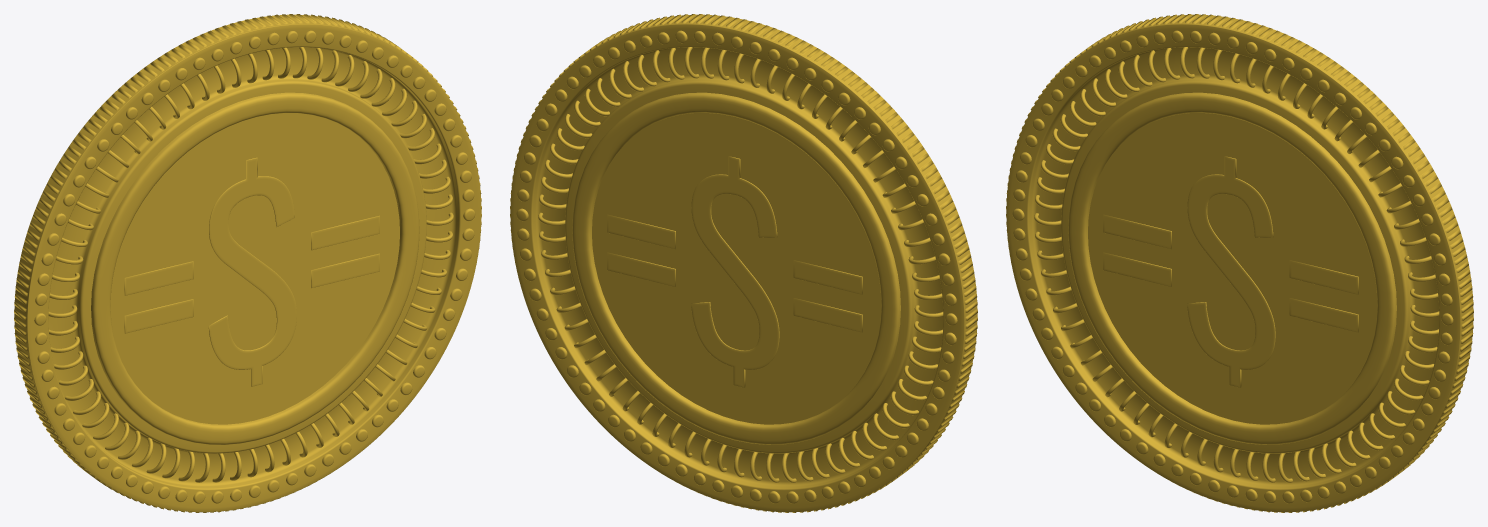
3 renders of one model, left to right at view 1: azimuth 30°, elevation 25°; view 2: azimuth 150°, elevation 25°; view 3: azimuth 330°, elevation 25°, orthographic.
Parts seen in each view (by area): view 1: Coin_0; view 2: Coin_0; view 3: Coin_0.
Boxes of the visible parts, <box> form: Coin_0: <box>14,14,481,512</box>; Coin_0: <box>510,14,977,512</box>; Coin_0: <box>1006,14,1473,512</box>.
Bounding box in the file's own units: 0.4025 × 0.4025 × 0.0297.
